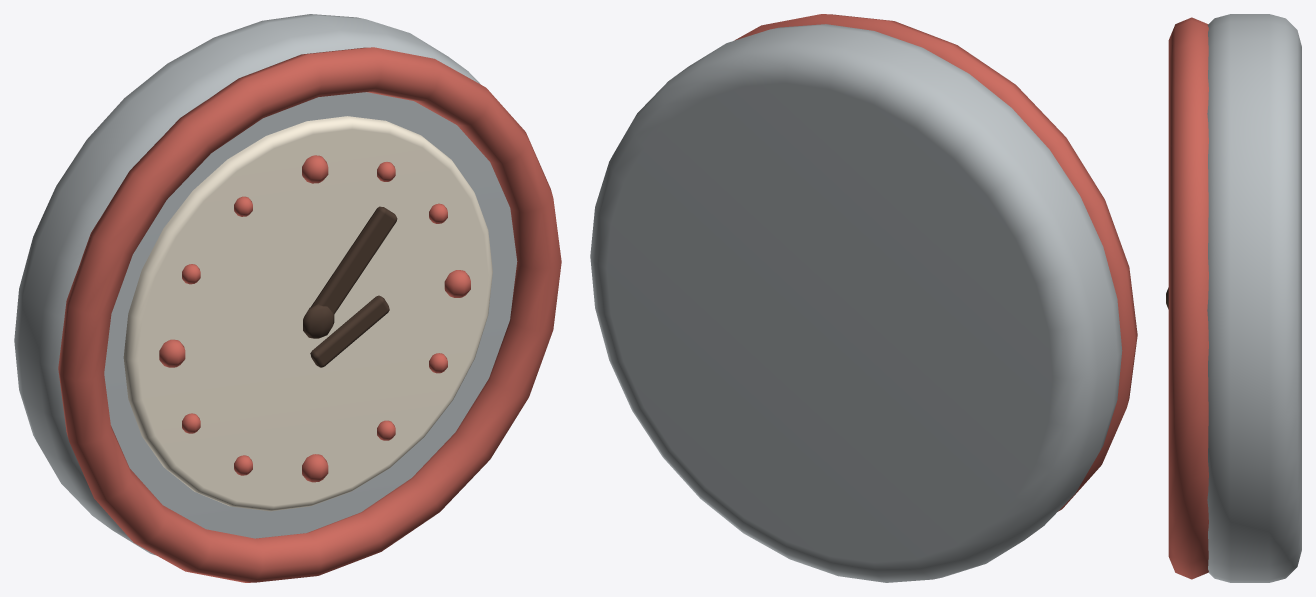
File: neon_ring_clock.glb
3 views of the same model, side by side, from view 1: azimuth 30°, elevation 25°; view 2: azimuth 150°, elevation 25°; view 3: azimuth 270°, elevation 25° (orthographic). The views are drawn at different scales.
Parts seen in each view (by area): view 1: neon_ring_clock_mesh; view 2: neon_ring_clock_mesh; view 3: neon_ring_clock_mesh.
Part boxes in pixels (box(x1,y1,x2,y2)): neon_ring_clock_mesh: box(14, 14, 561, 582); neon_ring_clock_mesh: box(590, 14, 1137, 582); neon_ring_clock_mesh: box(1166, 14, 1301, 582).
Bounding box in the file's own units: 0.44 × 0.44 × 0.1048.
